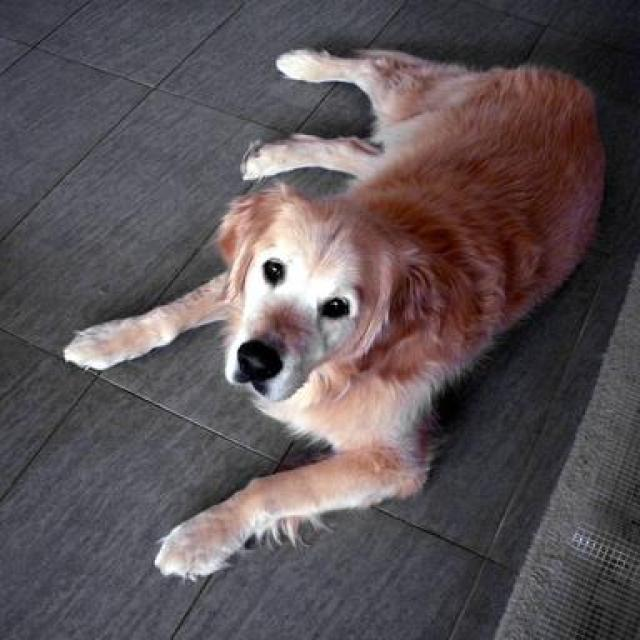sad: (44, 12, 605, 611)
